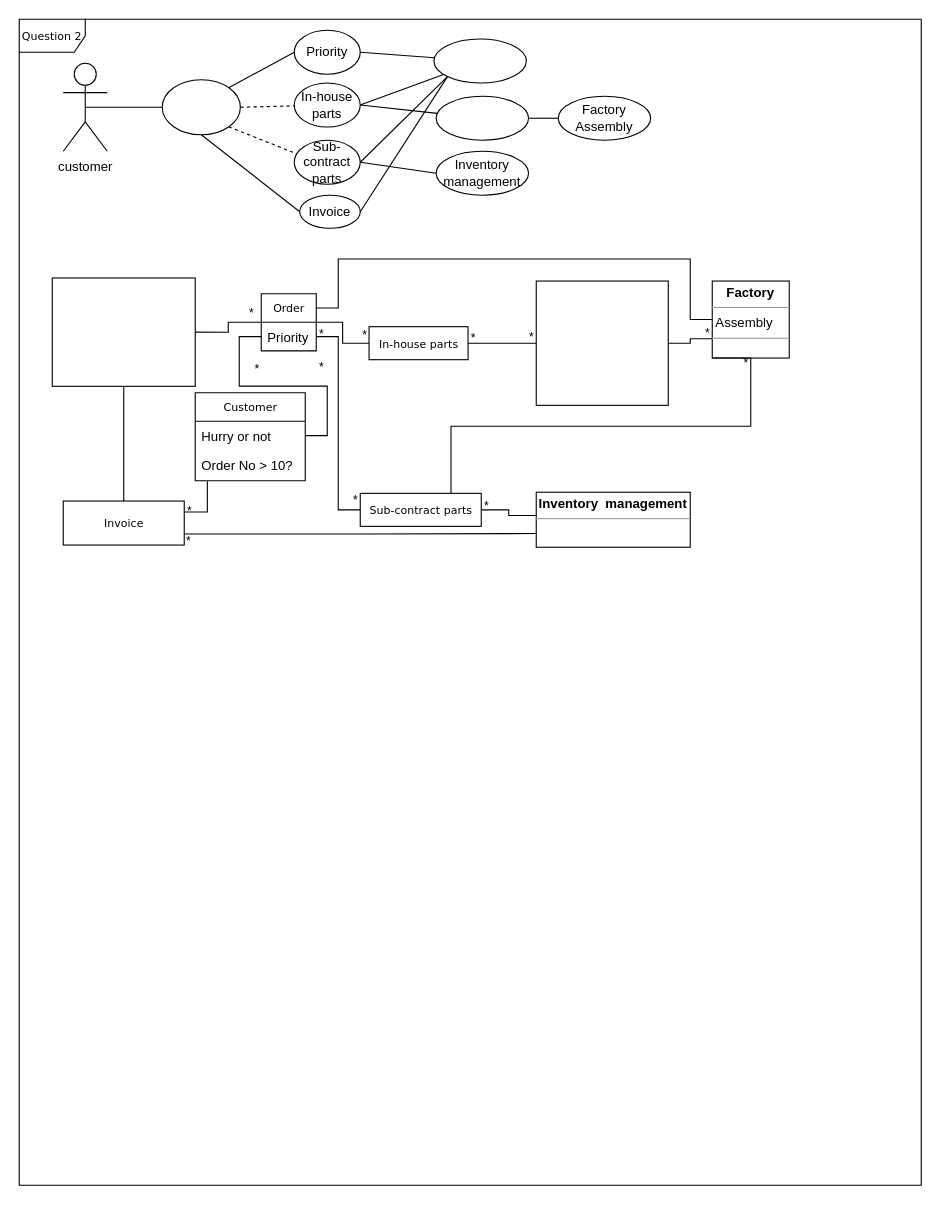
Some shapes in this 941 by 1205 pixel diagram are drawn without their labels. The centre of each missing label's shape, as x and y in pixels:
"customer order" belongs at (200,107).
"Factory Manufacturing" belongs at (482,117).
"Factory Manufacturing machining heat surface treatment" belongs at (601,342).
"Sales department" belongs at (479,60).
"sales department receive customer order technical check" belongs at (123,331).
